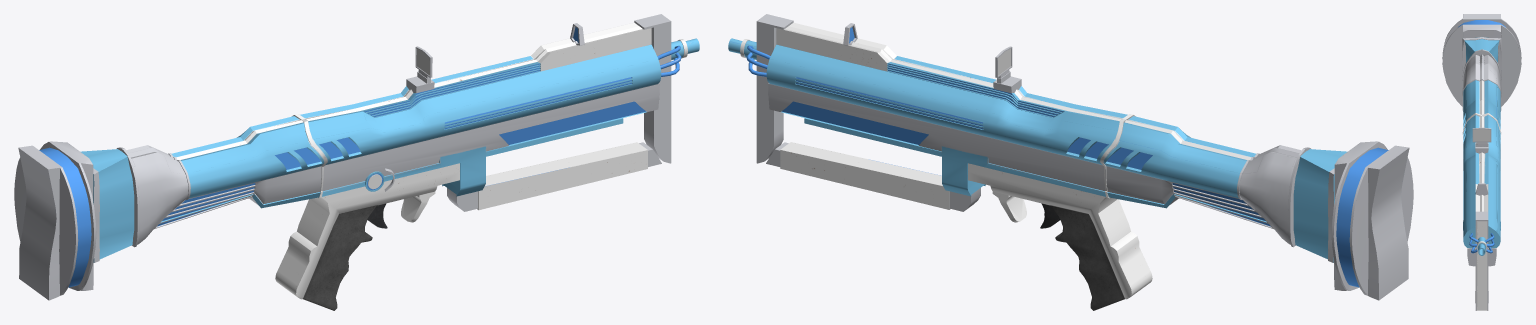
The model's file is SciFiGun_Light.fbx.
3 views of the same model, side by side, from view 1: azimuth 30°, elevation 25°; view 2: azimuth 150°, elevation 25°; view 3: azimuth 270°, elevation 25° (orthographic). The views are drawn at different scales.
Parts seen in each view (by area): view 1: SciFiGun_Light; view 2: SciFiGun_Light; view 3: SciFiGun_Light.
Part boxes in pixels (<box>): SciFiGun_Light: <box>14,14,699,310</box>; SciFiGun_Light: <box>728,14,1413,310</box>; SciFiGun_Light: <box>1442,14,1521,310</box>.
Size of the model in its own units: 0.6204 by 0.2066 by 0.1002.
